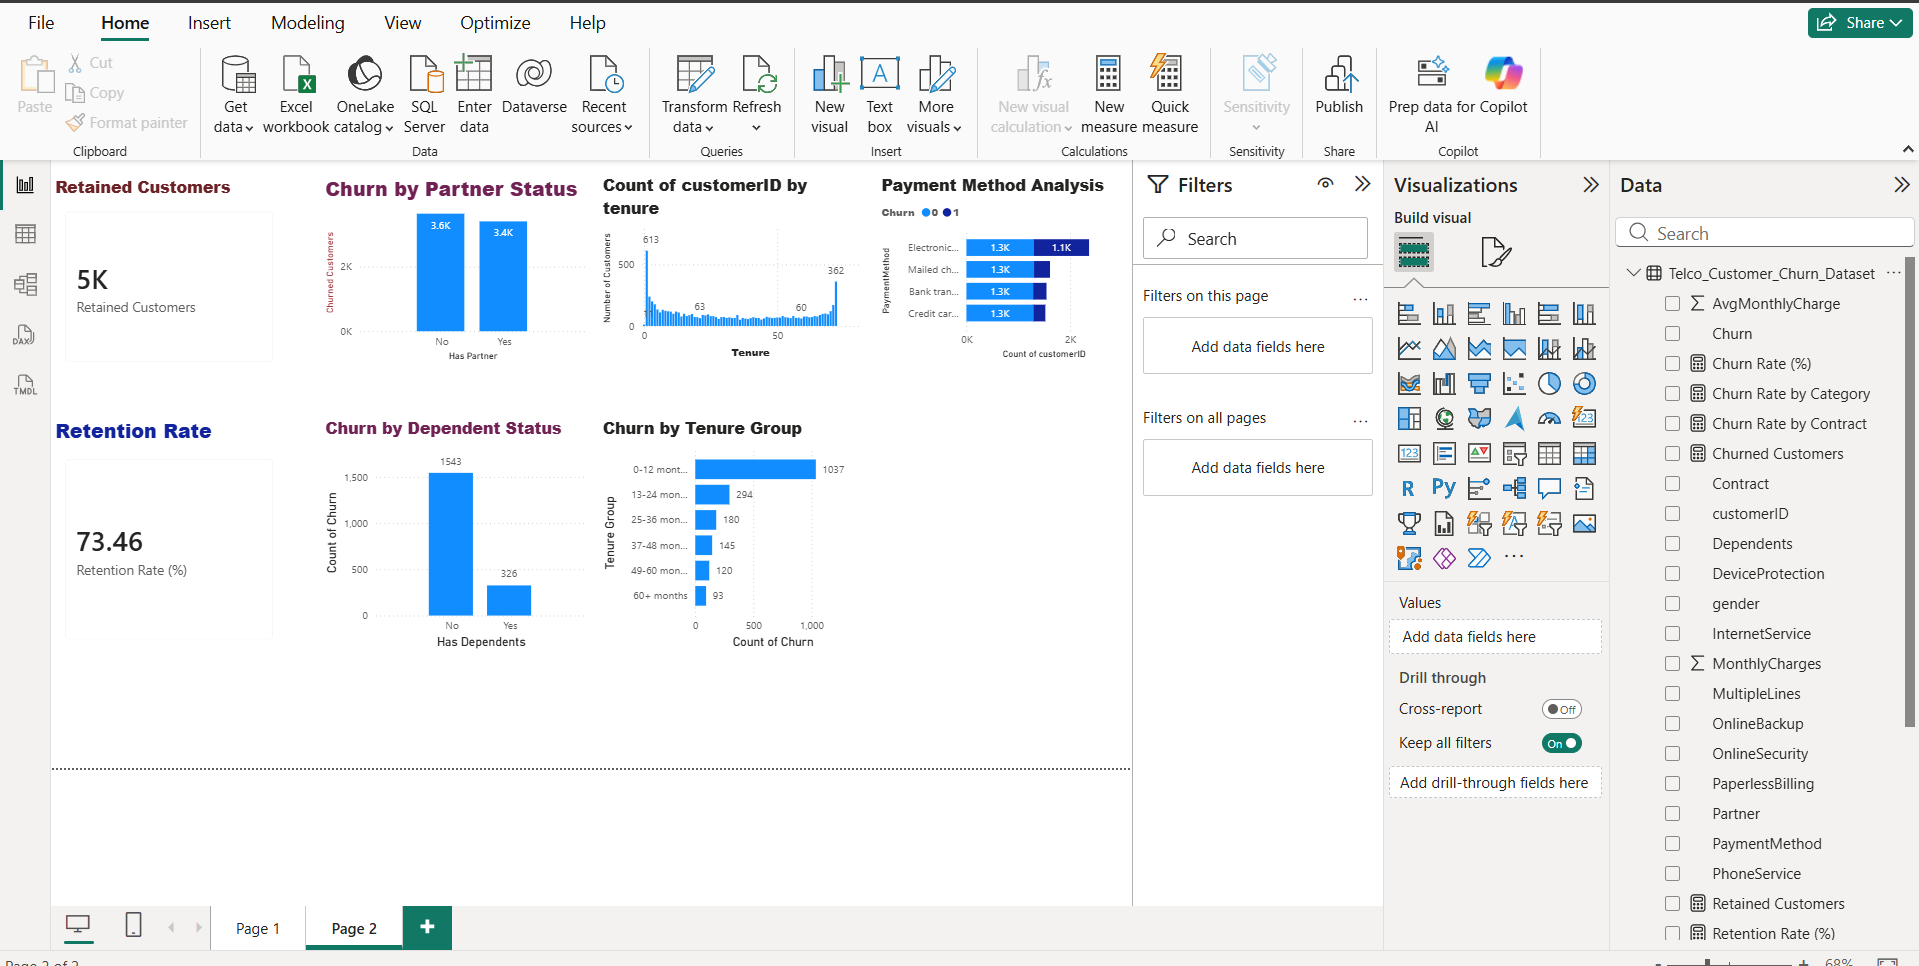

Layout of this report page (visuals, bound fields, positions):
{"tool":"powerbi","page":{"name":"Page 2","canvas":[1280,720],"ordinal":1},"visuals":[{"type":"cardVisual","title":"Retained Customers","fields":{"Data":["Telco_Customer_Churn_Dataset.Retained Customers"]},"box":[0,17.1,280,238.5],"z":0},{"type":"cardVisual","title":"Retention Rate","fields":{"Data":["Telco_Customer_Churn_Dataset.Retention Rate (%)"]},"box":[0,304.5,280,280],"z":1000},{"type":"clusteredColumnChart","title":"Churn by Partner Status","fields":{"Category":["Telco_Customer_Churn_Dataset.Partner"],"Y":["CountNonNull(Telco_Customer_Churn_Dataset.Churn)"]},"box":[320.4,17.1,319.2,225],"z":2000},{"type":"clusteredColumnChart","title":"Churn by Dependent Status","fields":{"Category":["Telco_Customer_Churn_Dataset.Dependents"],"Y":["CountNonNull(Telco_Customer_Churn_Dataset.Churn)"]},"box":[320,304,319,280],"z":3000},{"type":"clusteredColumnChart","fields":{"Category":["Telco_Customer_Churn_Dataset.tenure"],"Y":["CountNonNull(Telco_Customer_Churn_Dataset.customerID)"]},"box":[649,17,319,225],"z":4000},{"type":"clusteredBarChart","title":"Churn by Tenure Group","fields":{"Category":["Telco_Customer_Churn_Dataset.Tenure Group"],"Y":["CountNonNull(Telco_Customer_Churn_Dataset.Churn)"]},"box":[649,304,319,280],"z":5000},{"type":"barChart","title":"Payment Method Analysis","fields":{"Category":["Telco_Customer_Churn_Dataset.PaymentMethod"],"Y":["CountNonNull(Telco_Customer_Churn_Dataset.customerID)"],"Series":["Telco_Customer_Churn_Dataset.Churn"]},"box":[978,17,302,225],"z":6000}]}

Visuals, with their boxes on the page's 1280x720 design canvas (x1, y1, x2, y2). These are canvas units, not pixel positions in the 1919x966 screenshot, which may show the page scaled, cropped or inside an application window:
"Retained Customers" cardVisual: box(0, 17, 280, 256)
"Retention Rate" cardVisual: box(0, 304, 280, 584)
"Churn by Partner Status" clusteredColumnChart: box(320, 17, 640, 242)
"Churn by Dependent Status" clusteredColumnChart: box(320, 304, 639, 584)
clusteredColumnChart - Telco_Customer_Churn_Dataset.tenure x CountNonNull(Telco_Customer_Churn_Dataset.customerID): box(649, 17, 968, 242)
"Churn by Tenure Group" clusteredBarChart: box(649, 304, 968, 584)
"Payment Method Analysis" barChart: box(978, 17, 1280, 242)
